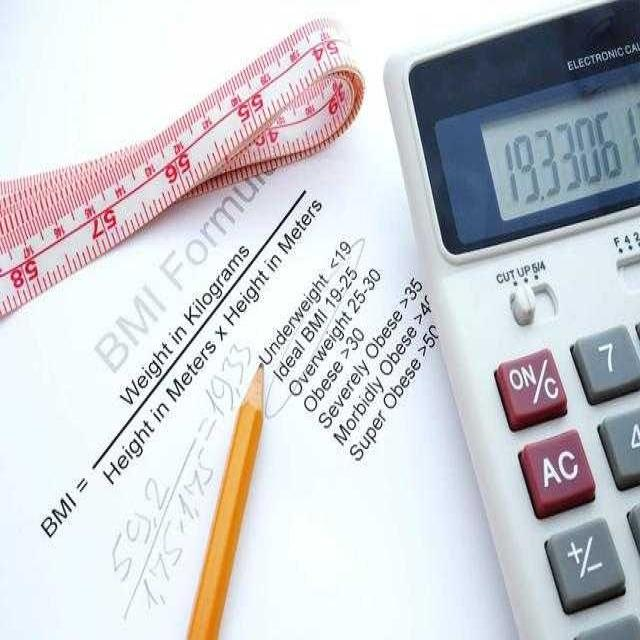Calculator: (381, 0, 639, 637)
